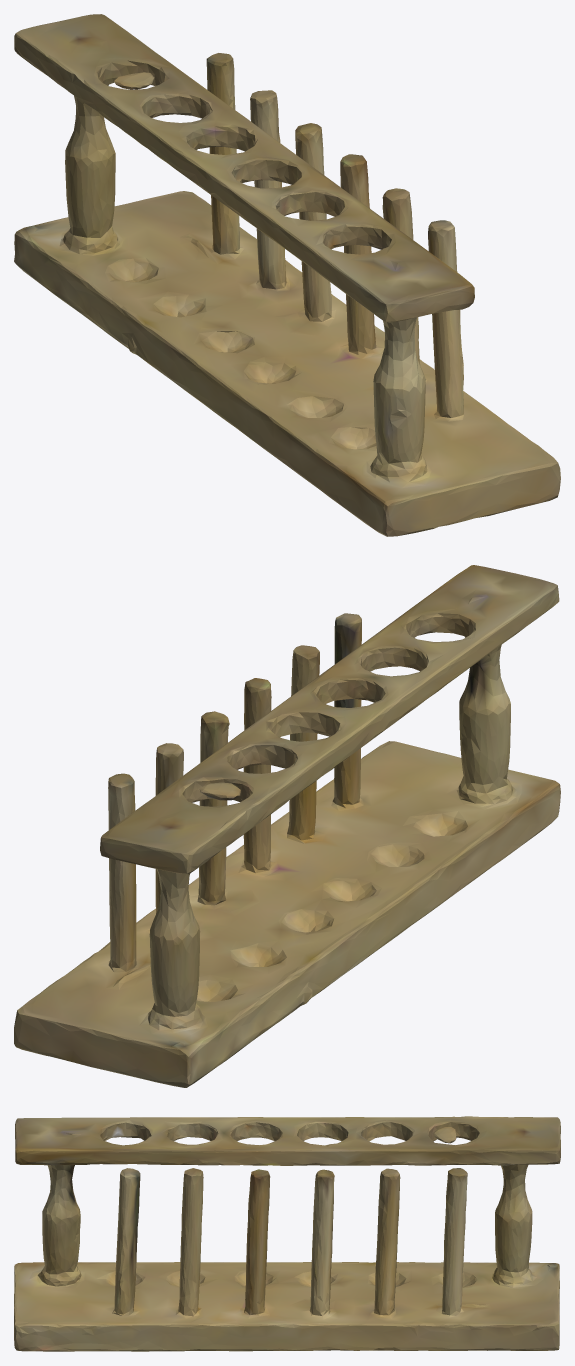
File: scan.obj
3 renders of one model, top to bottom at view 1: azimuth 30°, elevation 25°; view 2: azimuth 150°, elevation 25°; view 3: azimuth 270°, elevation 25°, orthographic. The views are drawn at different scales.
Visible parts, largest first — view 1: scan.ply; view 2: scan.ply; view 3: scan.ply.
Boxes of the visible parts, bbox=[...] form: scan.ply: bbox=[14, 14, 560, 536]; scan.ply: bbox=[14, 565, 560, 1087]; scan.ply: bbox=[14, 1116, 560, 1351].
Bounding box in the file's own units: 0.0665 × 0.085 × 0.2421.
